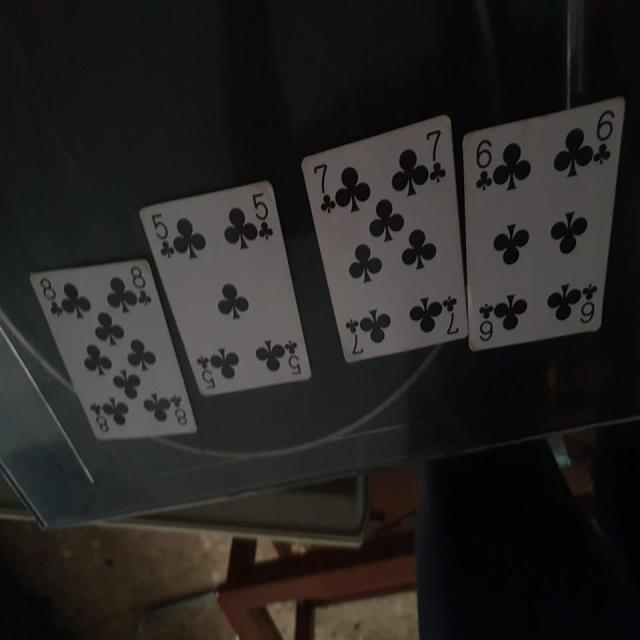5 Trefoils: (136, 178, 313, 397)
6 Trefoils: (462, 95, 625, 352)
7 Trefoils: (297, 115, 470, 362)
8 Trefoils: (29, 255, 199, 444)
